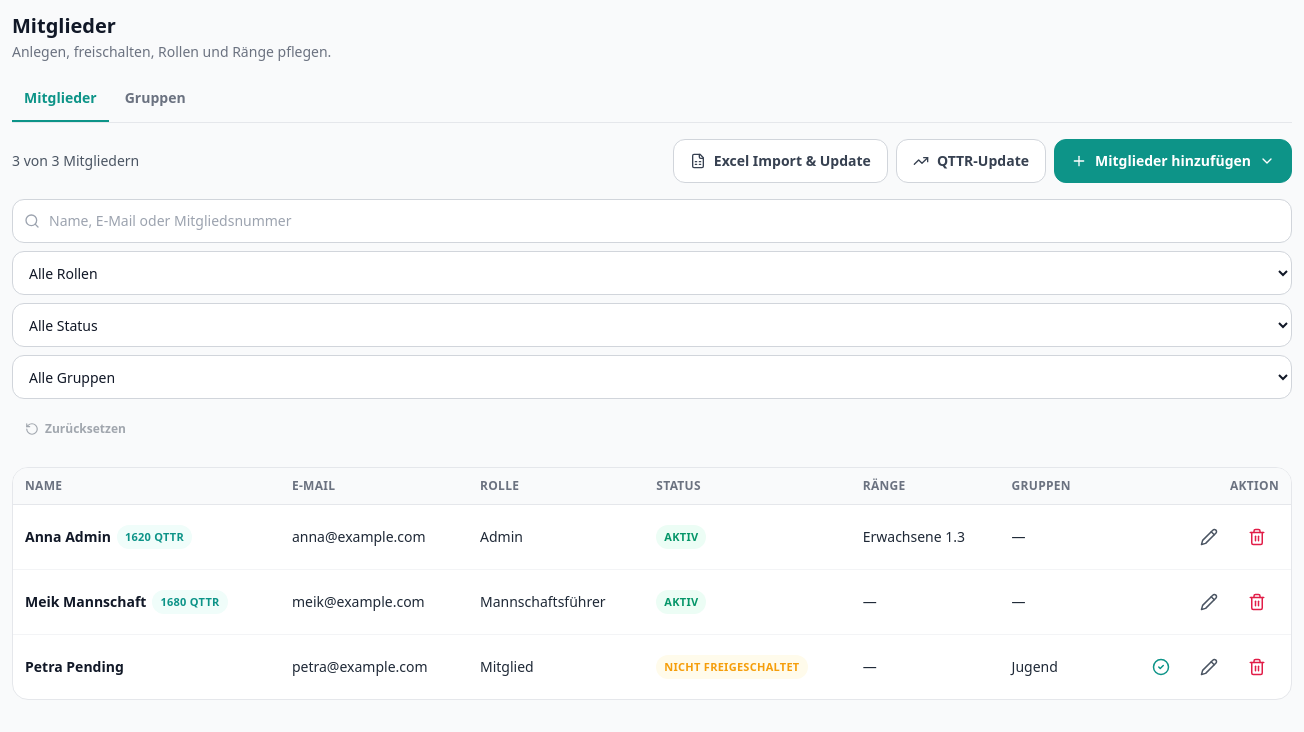
Test: MembersPage › setzt die Filter zurück
The image size is (1304, 732).
Select "Admin" in the dropdown named "Rolle" at [652, 273], box [12,251,1292,295]
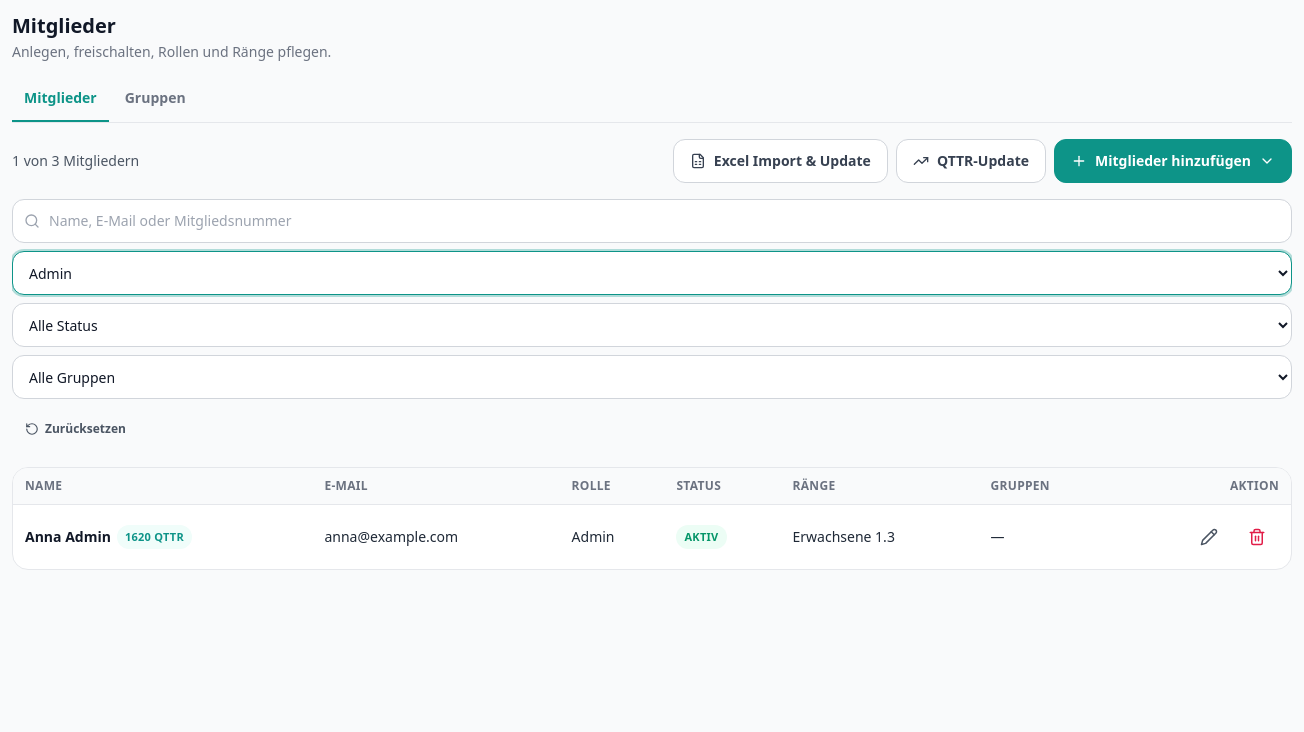
Click the button "Zurücksetzen" at [75, 429], box [12,407,139,451]
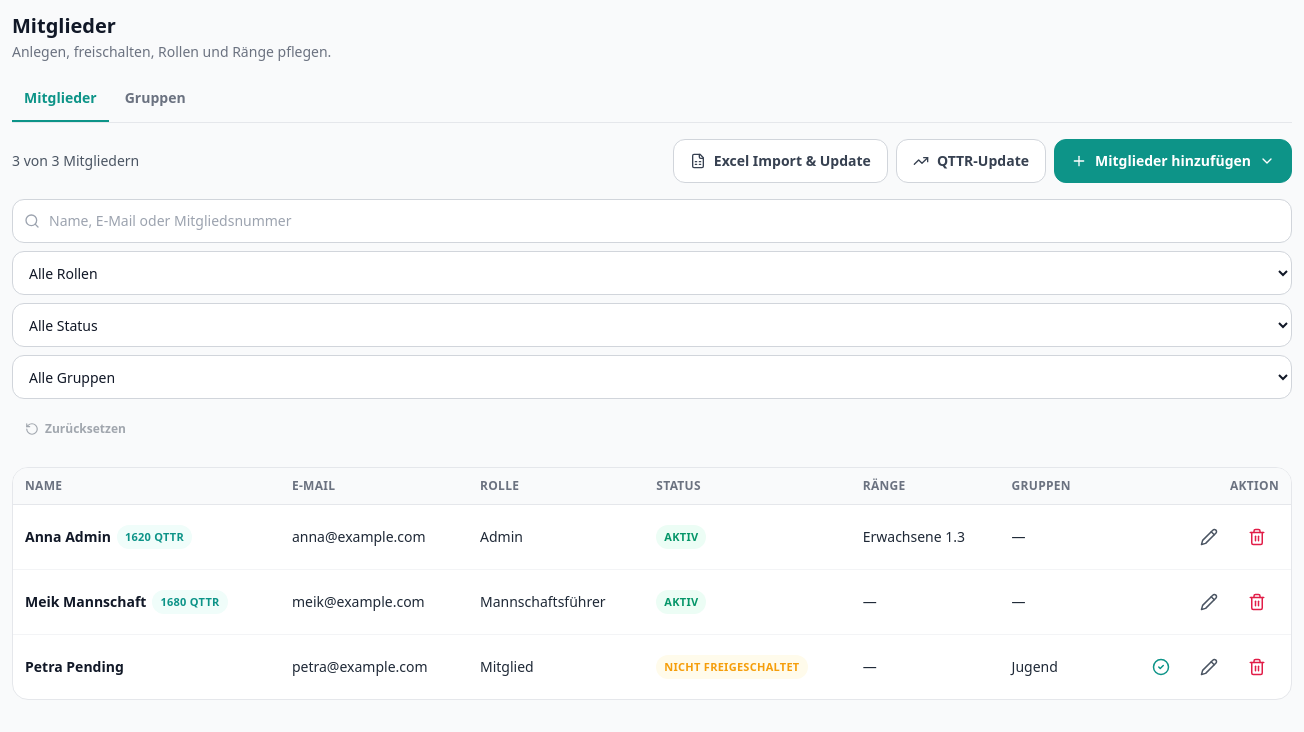
expect the text "3 von 3 Mitgliedern" is shown: met, box [12,151,139,171]
